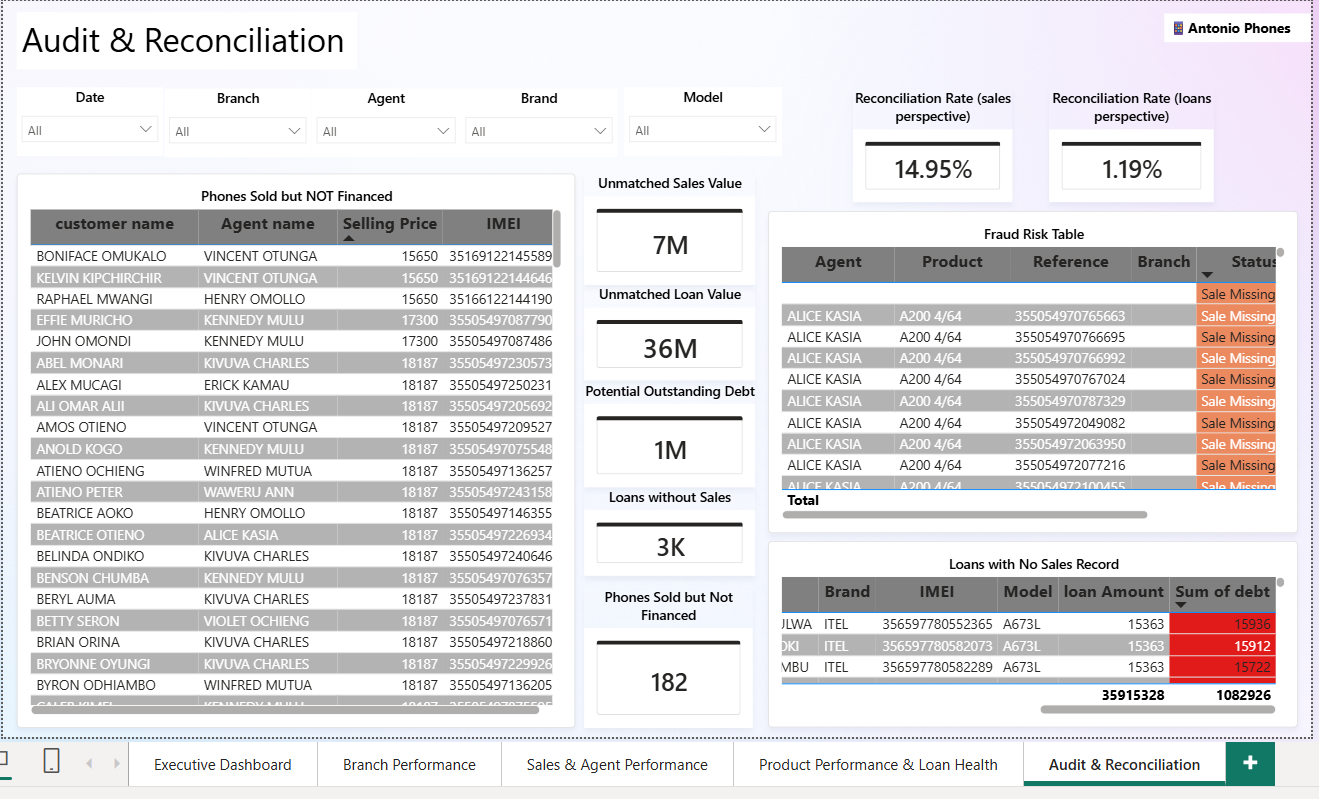

What the dashboard file says about the page in this screenshot:
{"tool":"powerbi","page":{"name":"Audit & Reconciliation","canvas":[1280,720],"ordinal":4},"visuals":[{"type":"textbox","box":[13.8,11.2,332.5,56.2],"z":0},{"type":"slicer","title":"Date","fields":{"Values":["Calendar.Date"]},"box":[13.5,84.4,143.1,67.3],"z":1000},{"type":"slicer","title":"Branch","fields":{"Values":["master_loans.branch"]},"box":[157.7,85.6,144.3,67.3],"z":2000},{"type":"cardVisual","title":"Phones Sold but Not Financed","fields":{"Data":["KPI.Phones Missing Loan"]},"box":[568.8,573.8,165,137.5],"z":3000},{"type":"cardVisual","title":"Loans without Sales","fields":{"Data":["KPI.Loans Missing Sales"]},"box":[568.8,476.2,167.5,87.5],"z":4000},{"type":"cardVisual","title":"Unmatched Loan Value","fields":{"Data":["KPI.Potential Loan Value"]},"box":[568.8,277.5,167.5,93.8],"z":5000},{"type":"tableEx","title":"Phones Sold but NOT Financed","fields":{"Values":["sales_not_in_loans.customer_name","sales_not_in_loans.agent_name","sales_not_in_loans.sp","sales_not_in_loans.serials"]},"box":[13.8,168.8,546.2,542.5],"z":6000},{"type":"textbox","box":[1136.4,12.1,143.6,27.7],"z":7000},{"type":"slicer","title":"Brand","fields":{"Values":["master_loans.brand"]},"box":[447.5,85,153.8,67.5],"z":8000},{"type":"slicer","title":"Agent","fields":{"Values":["master_loans.agent"]},"box":[302,85.6,145.5,67.3],"z":9000},{"type":"slicer","title":"Model","fields":{"Values":["master_loans.model"]},"box":[607.7,84.4,154.1,67.3],"z":10000},{"type":"cardVisual","title":"Unmatched Sales Value","fields":{"Data":["KPI.Potential Revenue Missing"]},"box":[568.8,168.8,167.5,108.8],"z":11000},{"type":"cardVisual","title":"Potential Outstanding Debt","fields":{"Data":["KPI.Potential Outstanding Debt"]},"box":[568.8,371.2,167.5,103.8],"z":12000},{"type":"cardVisual","title":"Reconciliation Rate (sales perspective)","fields":{"Data":["KPI.Reconciliation Rate"]},"box":[831.2,85,156.2,111.2],"z":13000},{"type":"cardVisual","title":"Reconciliation Rate (loans perspective)","fields":{"Data":["KPI.Reconciliation Rate loans perspective"]},"box":[1023.8,85,161.2,111.2],"z":14000},{"type":"tableEx","title":"Loans with No Sales Record","fields":{"Values":["loans_not_in_sales.shop","loans_not_in_sales.agreement_number","loans_not_in_sales.agent","loans_not_in_sales.brand","loans_not_in_sales.imei","loans_not_in_sales.model","Sum(loans_not_in_sales.loan_amount)","Sum(loans_not_in_sales.debt)"]},"box":[748.8,528.8,518.8,182.5],"z":15000},{"type":"tableEx","title":"Fraud Risk Table","fields":{"Values":["Fraud_Risk.Agent","Fraud_Risk.Product","Fraud_Risk.Reference","Fraud_Risk.Branch","Fraud_Risk.Status","Sum(Fraud_Risk.Amount)"]},"box":[748.8,205,518.8,315],"z":16000}]}

Visuals, with their boxes on the page's 1280x720 design canvas (x1, y1, x2, y2). These are canvas units, not pixel positions in the 1319x799 screenshot, which may show the page scaled, cropped or inside an application window:
textbox: bbox(14, 11, 346, 67)
"Date" slicer: bbox(14, 84, 157, 152)
"Branch" slicer: bbox(158, 86, 302, 153)
"Phones Sold but Not Financed" cardVisual: bbox(569, 574, 734, 711)
"Loans without Sales" cardVisual: bbox(569, 476, 736, 564)
"Unmatched Loan Value" cardVisual: bbox(569, 278, 736, 371)
"Phones Sold but NOT Financed" tableEx: bbox(14, 169, 560, 711)
textbox: bbox(1136, 12, 1280, 40)
"Brand" slicer: bbox(448, 85, 601, 152)
"Agent" slicer: bbox(302, 86, 448, 153)
"Model" slicer: bbox(608, 84, 762, 152)
"Unmatched Sales Value" cardVisual: bbox(569, 169, 736, 278)
"Potential Outstanding Debt" cardVisual: bbox(569, 371, 736, 475)
"Reconciliation Rate (sales perspective)" cardVisual: bbox(831, 85, 987, 196)
"Reconciliation Rate (loans perspective)" cardVisual: bbox(1024, 85, 1185, 196)
"Loans with No Sales Record" tableEx: bbox(749, 529, 1268, 711)
"Fraud Risk Table" tableEx: bbox(749, 205, 1268, 520)
